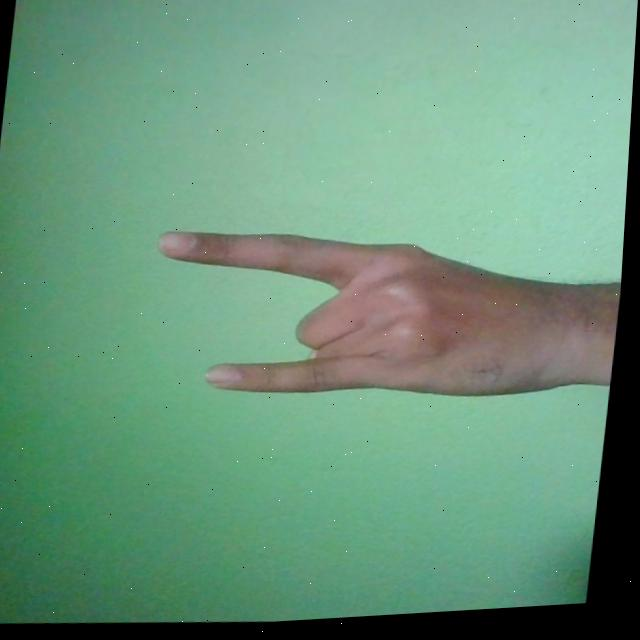Rock On: (140, 210, 616, 426)
